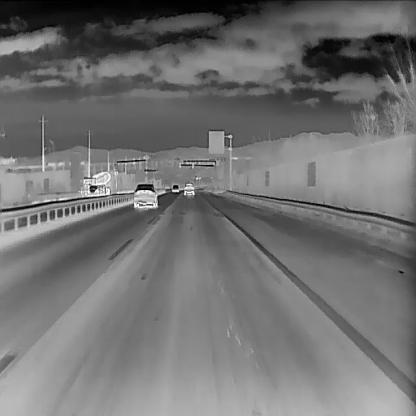car: (132, 182, 158, 206), (182, 181, 194, 195), (170, 183, 179, 192)
truck: (78, 170, 110, 198)
